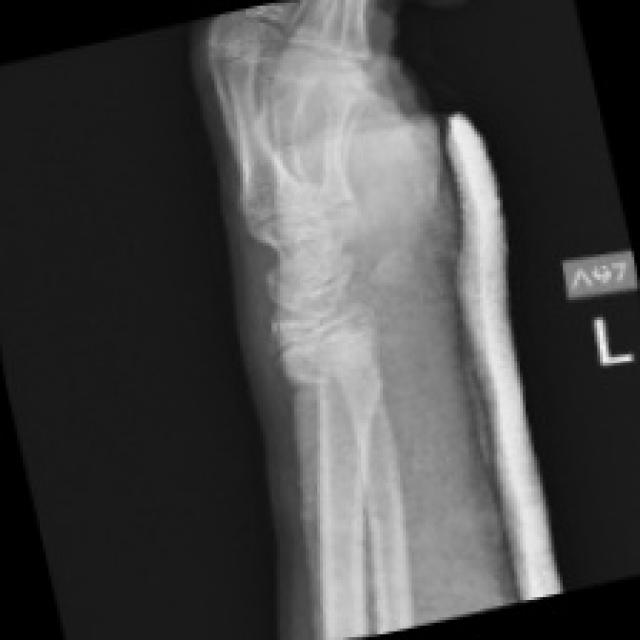fracture: (273, 343, 352, 419)
